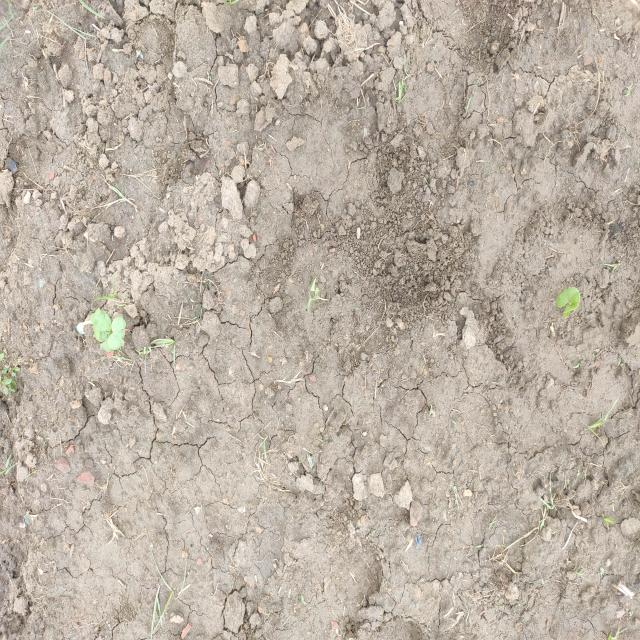seedling_s4: (107, 317, 126, 350), (556, 287, 579, 308), (563, 292, 581, 317), (90, 308, 101, 339), (98, 311, 112, 332), (100, 331, 112, 353)
